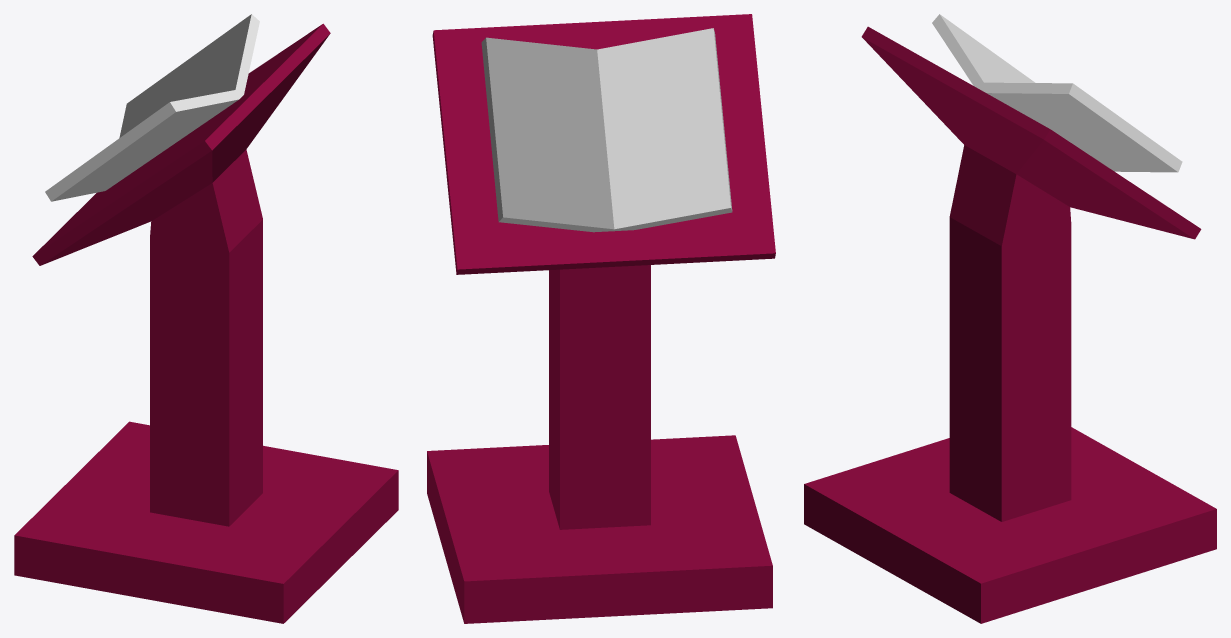
File: Cards.fbx
3 views of the same model, side by side, from view 1: azimuth 30°, elevation 25°; view 2: azimuth 150°, elevation 25°; view 3: azimuth 270°, elevation 25° (orthographic). The views are drawn at different scales.
Parts seen in each view (by area): view 1: Cube; view 2: Cube; view 3: Cube.
Part boxes in pixels (left/top/right/bottom): Cube: left=14, top=14, right=398, bottom=623; Cube: left=427, top=14, right=775, bottom=623; Cube: left=804, top=14, right=1216, bottom=623.
Size of the model in its own units: 280 by 368 by 280.
